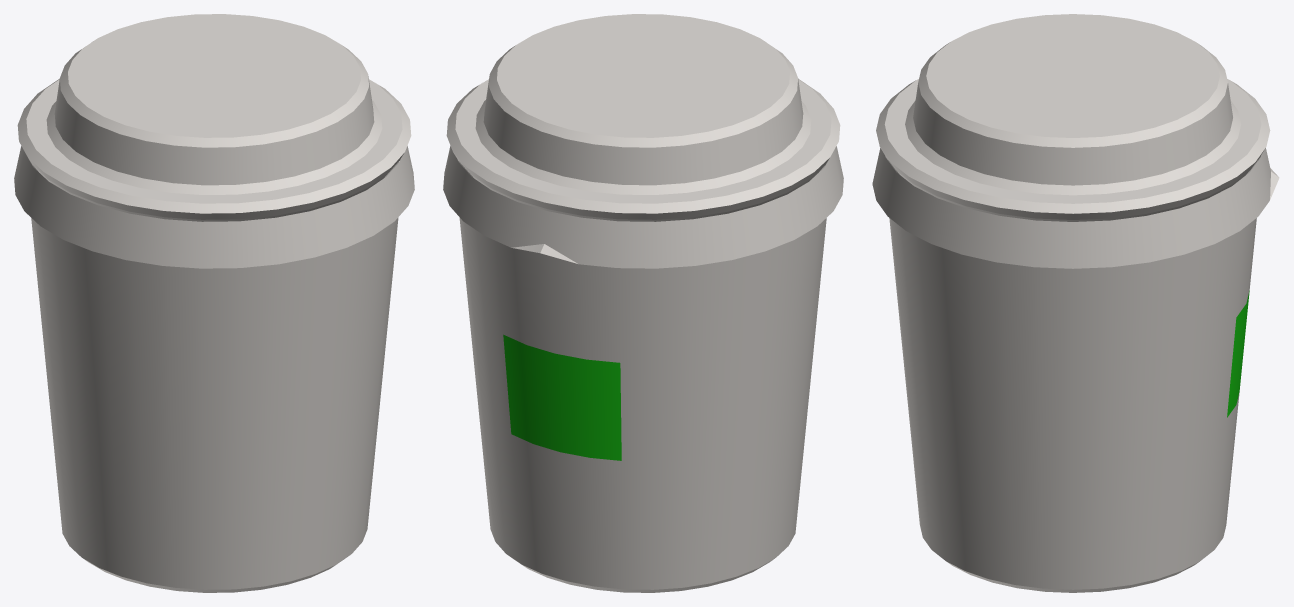
File: coffeecupblend.fbx
The picture shows the model from 3 angles, left to right: view 1: azimuth 30°, elevation 25°; view 2: azimuth 150°, elevation 25°; view 3: azimuth 270°, elevation 25°; orthographic projection.
Parts seen in each view (by area): view 1: starbucks.001; view 2: starbucks.001; view 3: starbucks.001.
Boxes of the visible parts, x1,y1,x2,y2 form: starbucks.001: [14, 14, 414, 592]; starbucks.001: [443, 14, 843, 592]; starbucks.001: [872, 14, 1279, 592].
Bounding box in the file's own units: 30.58 × 38.29 × 31.02.
